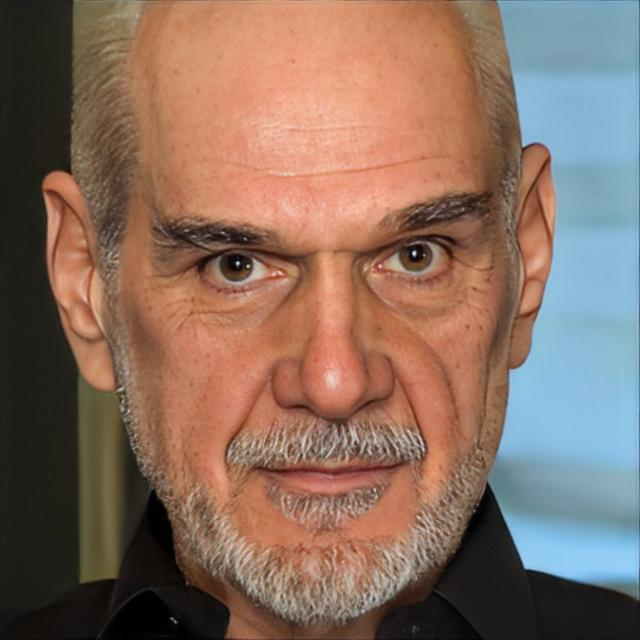anger: (110, 32, 514, 624)
